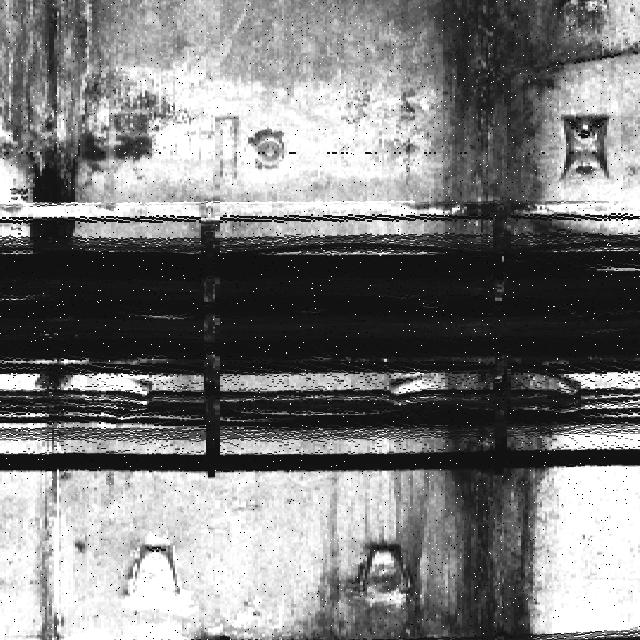leakage: (407, 356, 584, 639), (430, 0, 605, 248), (4, 0, 163, 247)
